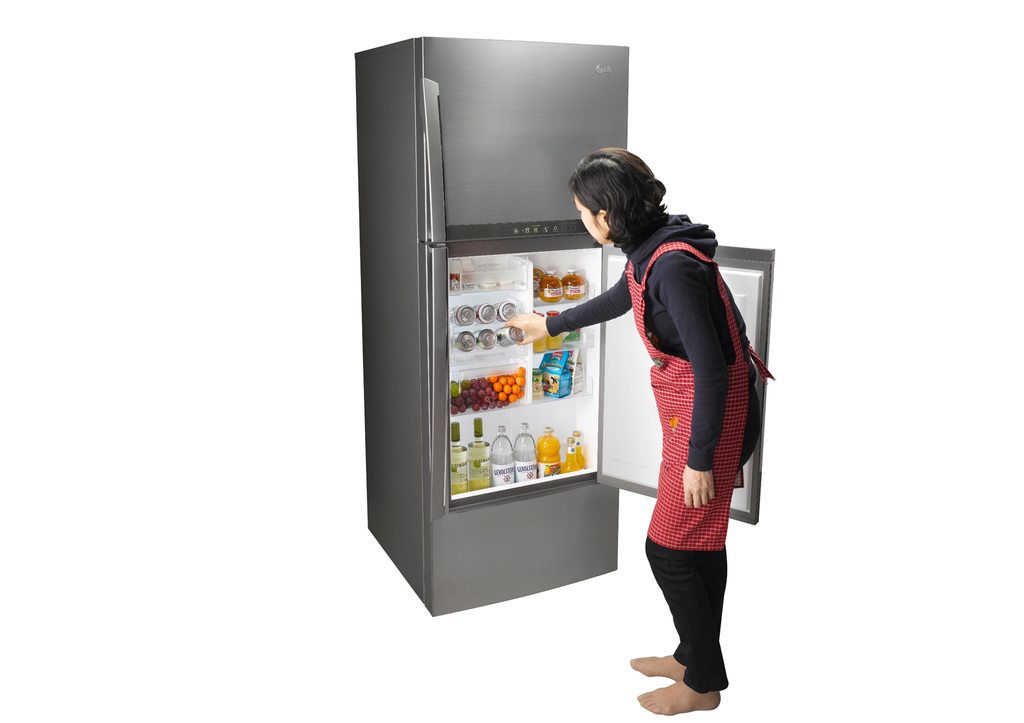handle: (423, 248, 450, 516), (418, 81, 451, 243)
refrigerator door: (599, 251, 755, 504), (430, 37, 630, 226)
